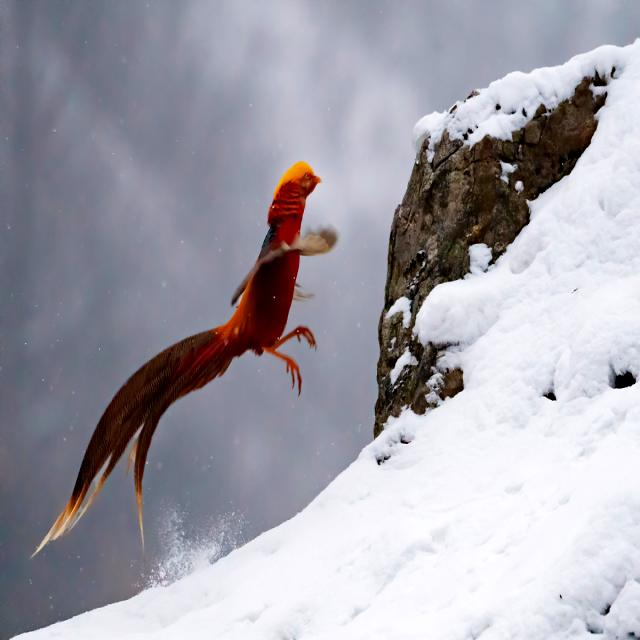Chrysolophus pictus feather: (43, 328, 239, 543)
